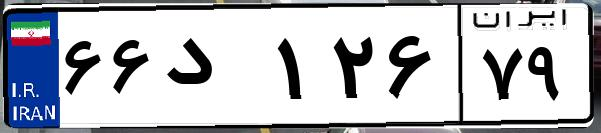1: (270, 28, 330, 110)
2: (330, 28, 385, 110)
6: (385, 28, 445, 110), (57, 26, 110, 100), (110, 28, 158, 98)
7: (475, 38, 525, 113)
9: (525, 38, 570, 115)
د: (158, 20, 270, 120)
